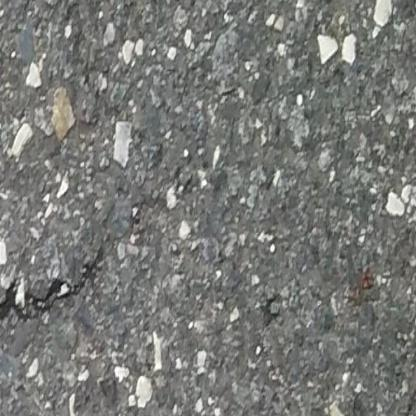Cracks: (0, 246, 108, 333)
